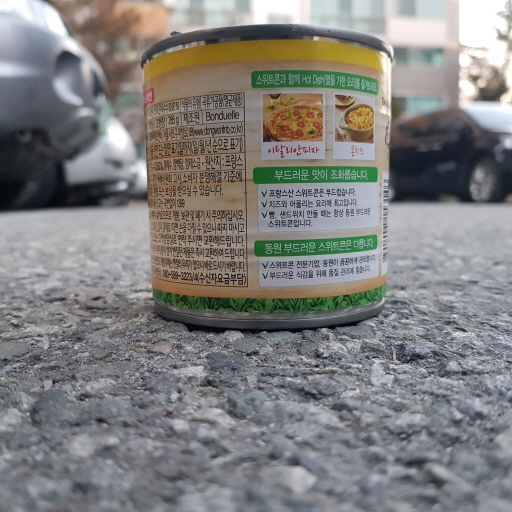Metal_1: (140, 24, 395, 324)
